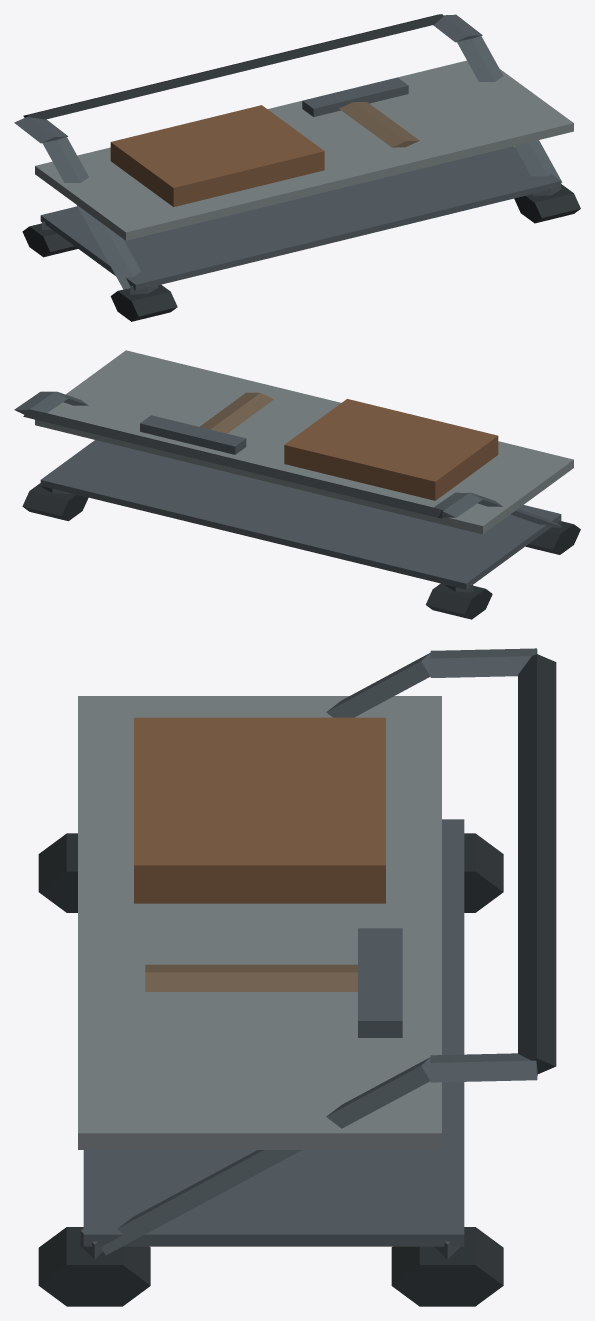
The model's file is tool_cart.glb.
The picture shows the model from 3 angles, top to bottom: view 1: azimuth 30°, elevation 25°; view 2: azimuth 150°, elevation 25°; view 3: azimuth 270°, elevation 25°; orthographic projection. The views are drawn at different scales.
Parts seen in each view (by area): view 1: tool_cart; view 2: tool_cart; view 3: tool_cart.
Part boxes in pixels (left/top/right/bottom): tool_cart: left=14, top=14, right=580, bottom=321; tool_cart: left=14, top=350, right=580, bottom=619; tool_cart: left=38, top=648, right=556, bottom=1306.
Bounding box in the file's own units: 1.92 × 0.48 × 0.96.
